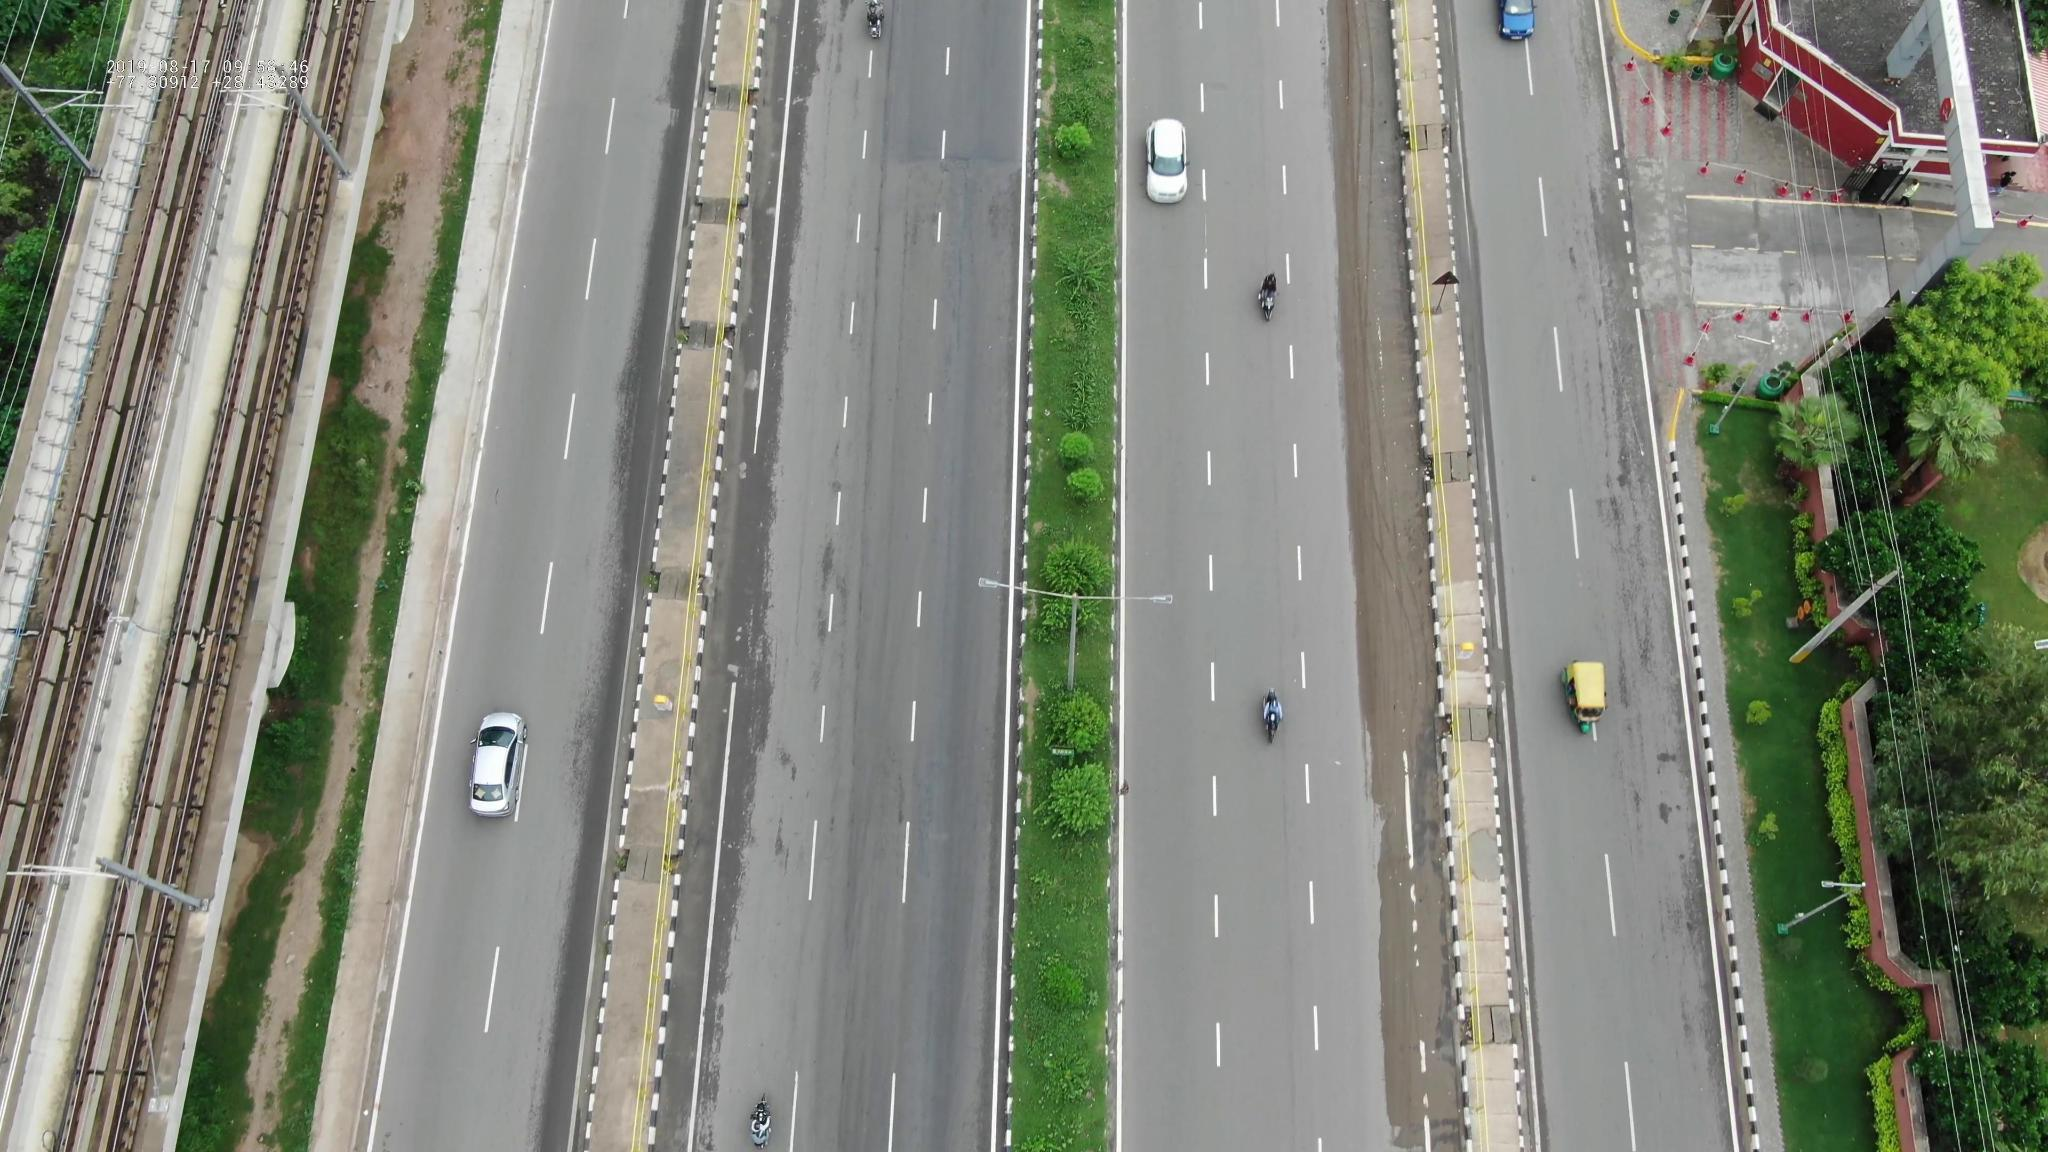Muddy_road: (1331, 477, 1467, 1108), (1328, 1, 1432, 457)
